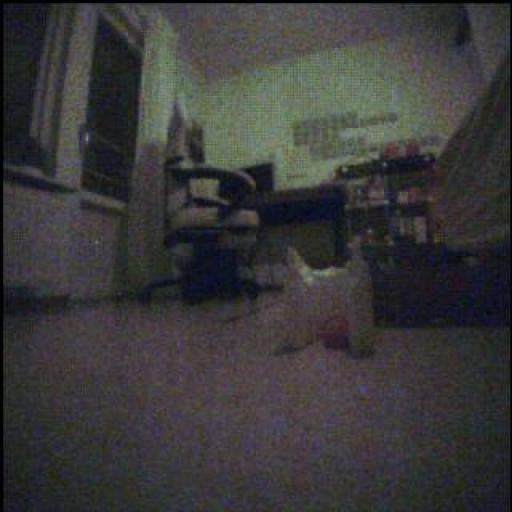basket: (321, 314, 348, 350)
